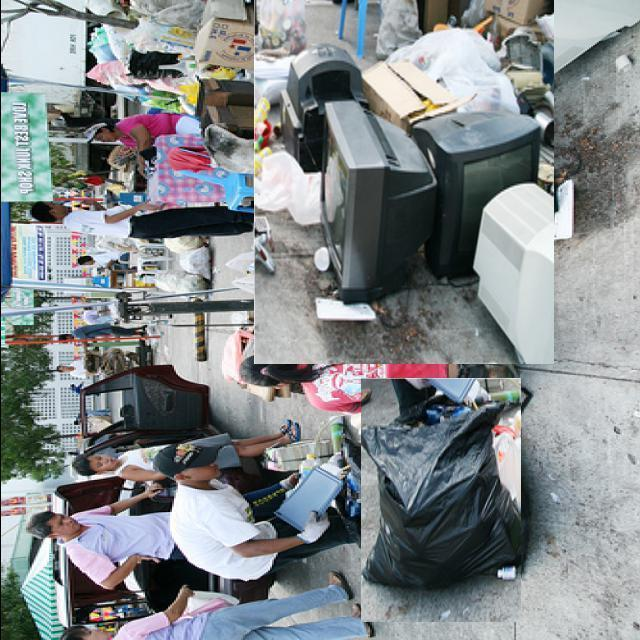Trashbag: (354, 399, 528, 594)
